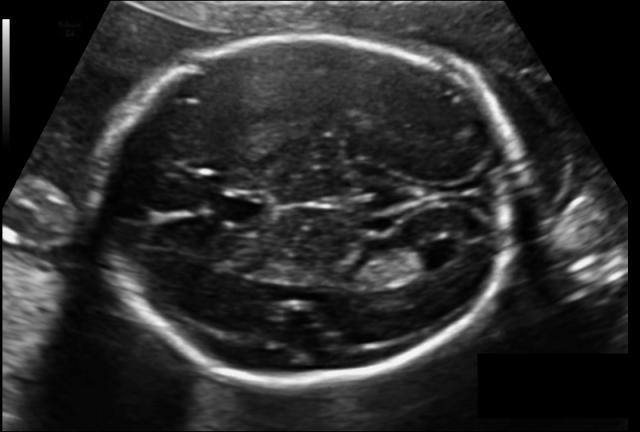CHOROID_PLEXUS: (320, 240, 448, 313)
CSP: (132, 169, 244, 248)
MIDLINE_FALX: (88, 154, 520, 258)
